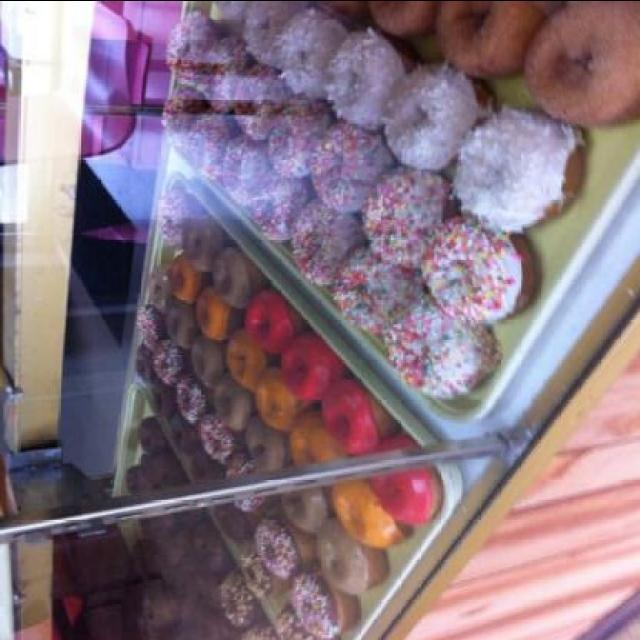Donuts: (110, 0, 634, 638)
